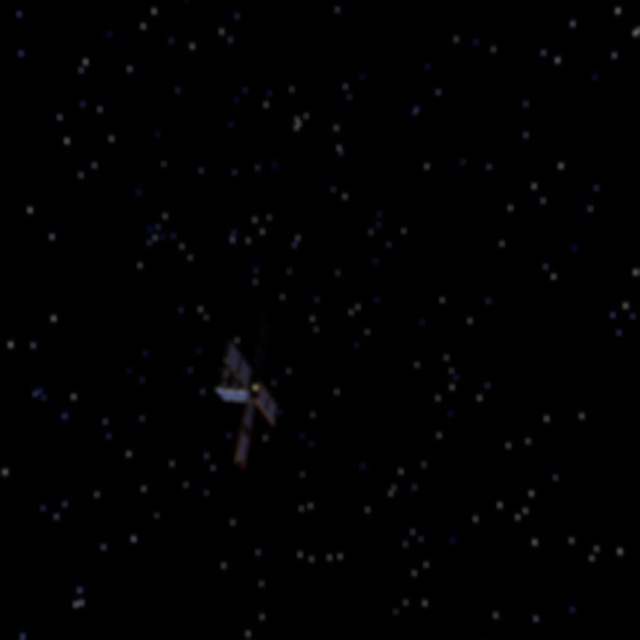medium_debris: (204, 322, 293, 466)
